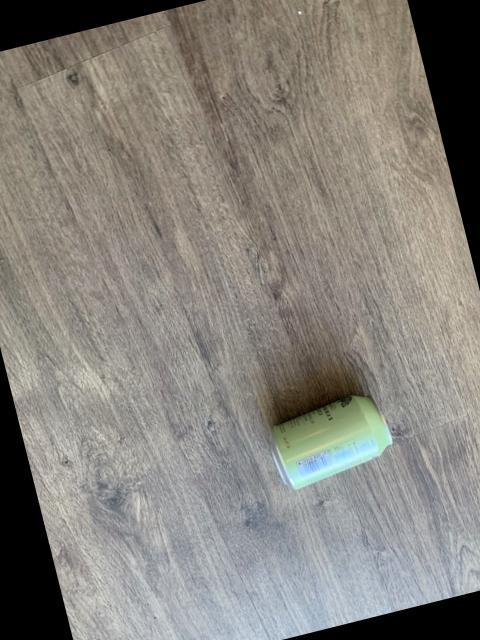metal: (272, 393, 392, 486)
